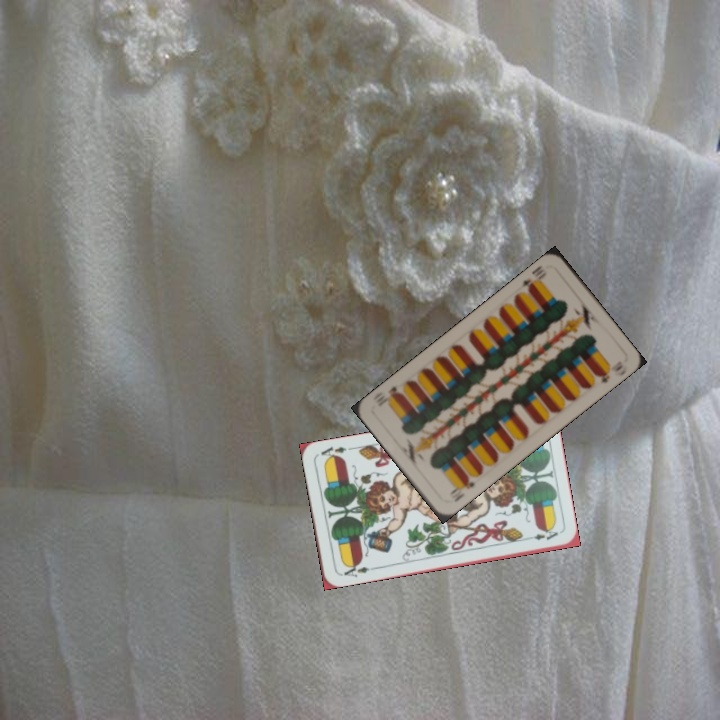E10: (446, 473, 477, 505), (518, 266, 549, 295)
EA: (336, 559, 377, 580)
